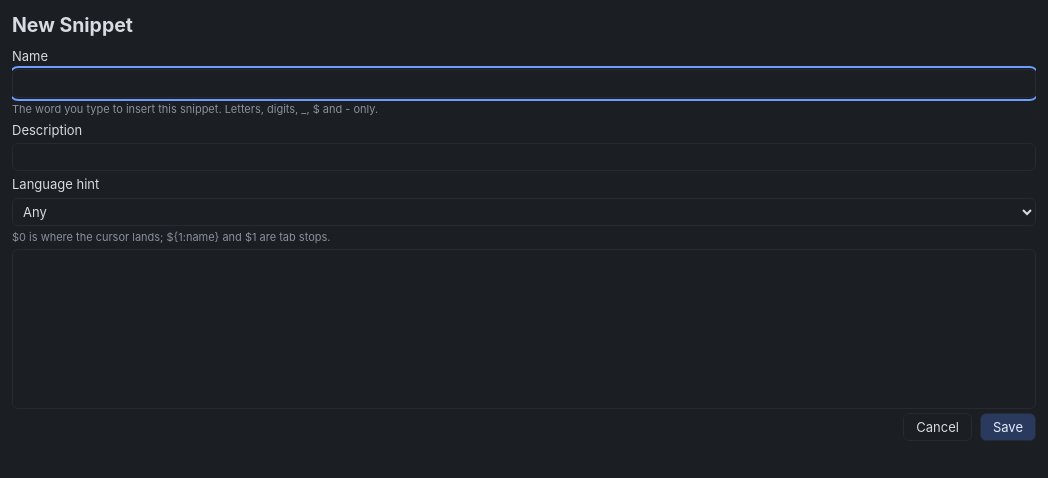
Test: the New / Edit snippet form (spec §13.1) › the name field is described by its help text, and marked invalid only once it is
Expected: the text with id "snippet-name-help" reads "The word you type to insert this snippet. Letters, digits, _, $ and - only.", [12,102,378,116]
Click the button "Save": (1008, 427) [980,413,1036,441]
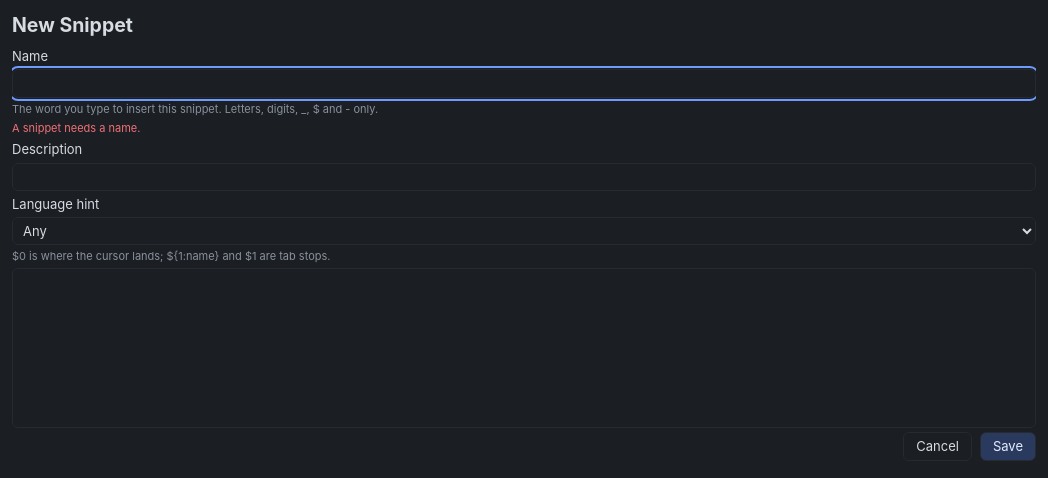
Now the message reads "A snippet needs a name.", box [12,121,140,135]
